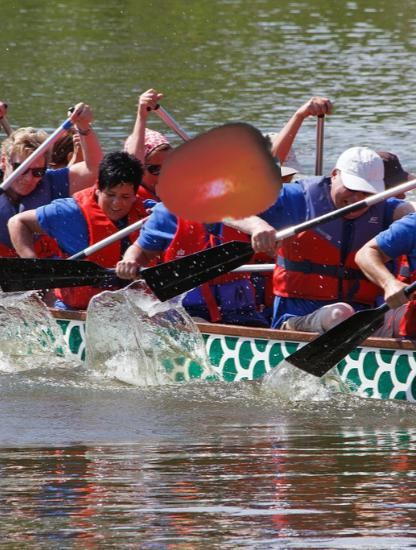Kaki: (154, 110, 281, 237)
